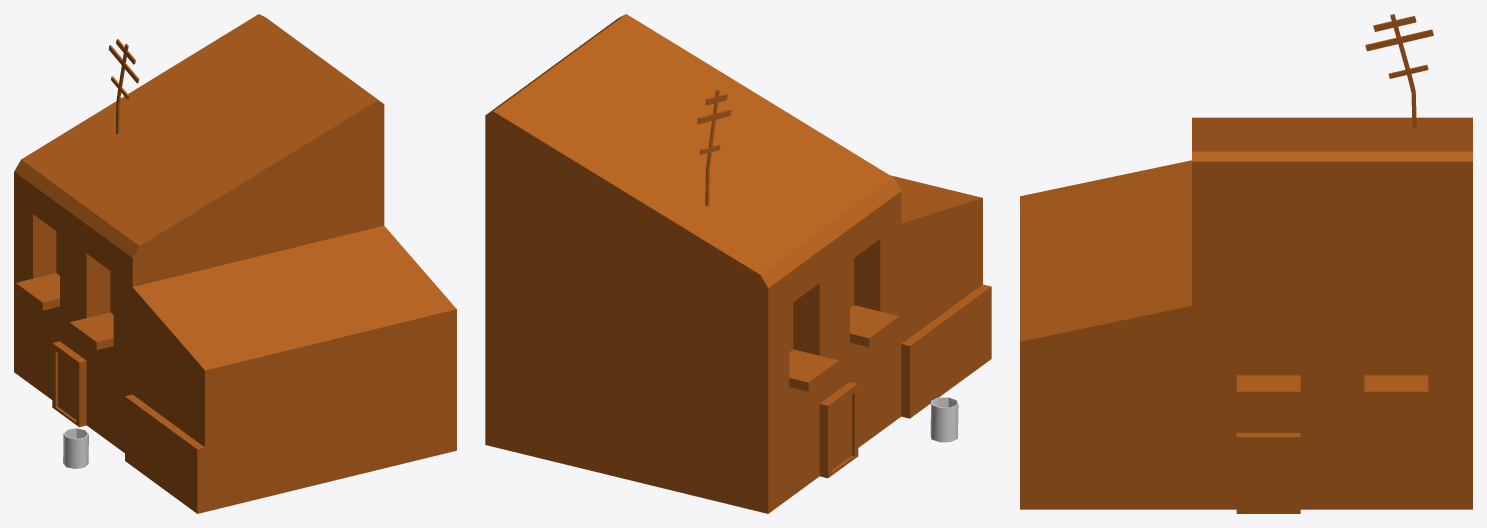
Rendered from shitty_suburb_Houe2.FBX.
The picture shows the model from 3 angles, left to right: view 1: azimuth 30°, elevation 25°; view 2: azimuth 150°, elevation 25°; view 3: azimuth 270°, elevation 25°; orthographic projection. The views are drawn at different scales.
Parts seen in each view (by area): view 1: Box004, Cylinder003; view 2: Box004, Cylinder003; view 3: Box004.
Part boxes in pixels (<box>): Box004: <box>14,14,456,513</box>; Cylinder003: <box>63,428,88,468</box>; Box004: <box>485,14,991,513</box>; Cylinder003: <box>930,397,958,442</box>; Box004: <box>1020,14,1472,513</box>.
Bounding box in the file's own units: 5.07 × 4.95 × 5.14.
